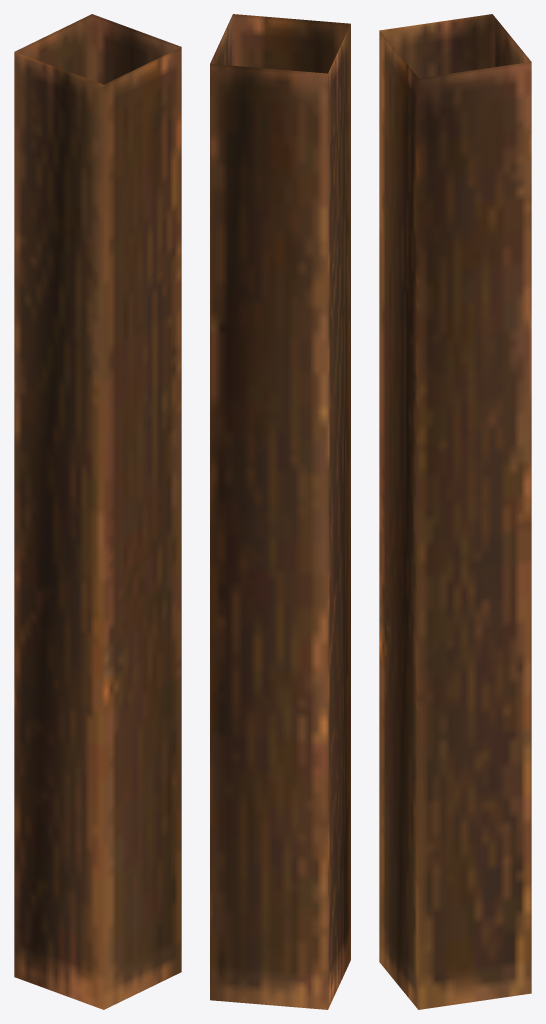
Rendered from SWORDLIGHT20_JAILPLATSUPPORT82.fbx.
The picture shows the model from 3 angles, left to right: view 1: azimuth 30°, elevation 25°; view 2: azimuth 150°, elevation 25°; view 3: azimuth 270°, elevation 25°; orthographic projection.
Visible parts, largest first — view 1: SWORDLIGHT20_JAILPLATSUPPORT82; view 2: SWORDLIGHT20_JAILPLATSUPPORT82; view 3: SWORDLIGHT20_JAILPLATSUPPORT82.
Boxes of the visible parts, bbox=[...] form: SWORDLIGHT20_JAILPLATSUPPORT82: bbox=[14, 14, 181, 1009]; SWORDLIGHT20_JAILPLATSUPPORT82: bbox=[210, 14, 350, 1009]; SWORDLIGHT20_JAILPLATSUPPORT82: bbox=[379, 14, 531, 1009].
Size of the model in its own units: 5084 by 34376 by 5084.
Materials: 1 (1 with a texture image).
